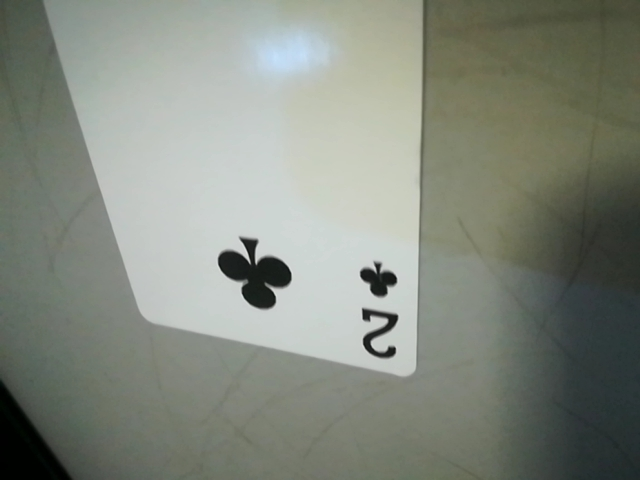mh 2: (344, 250, 417, 371)
